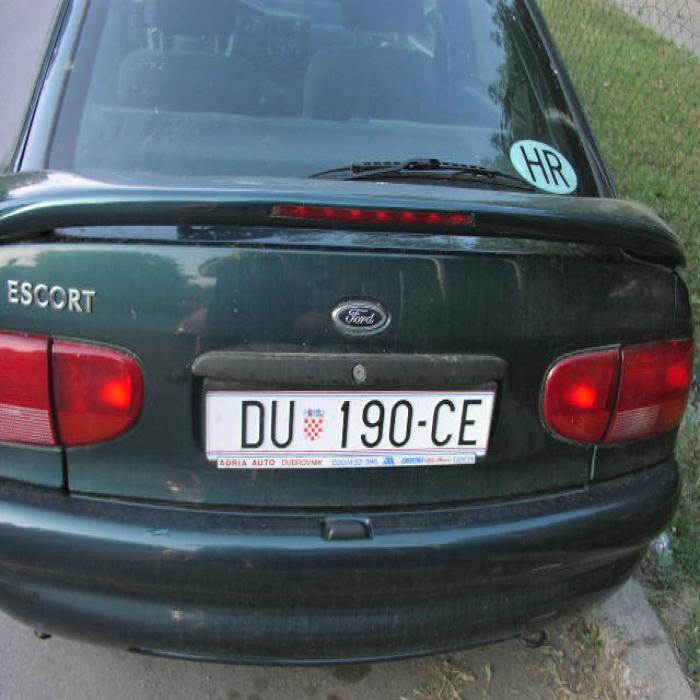number_plate: (204, 394, 486, 452)
